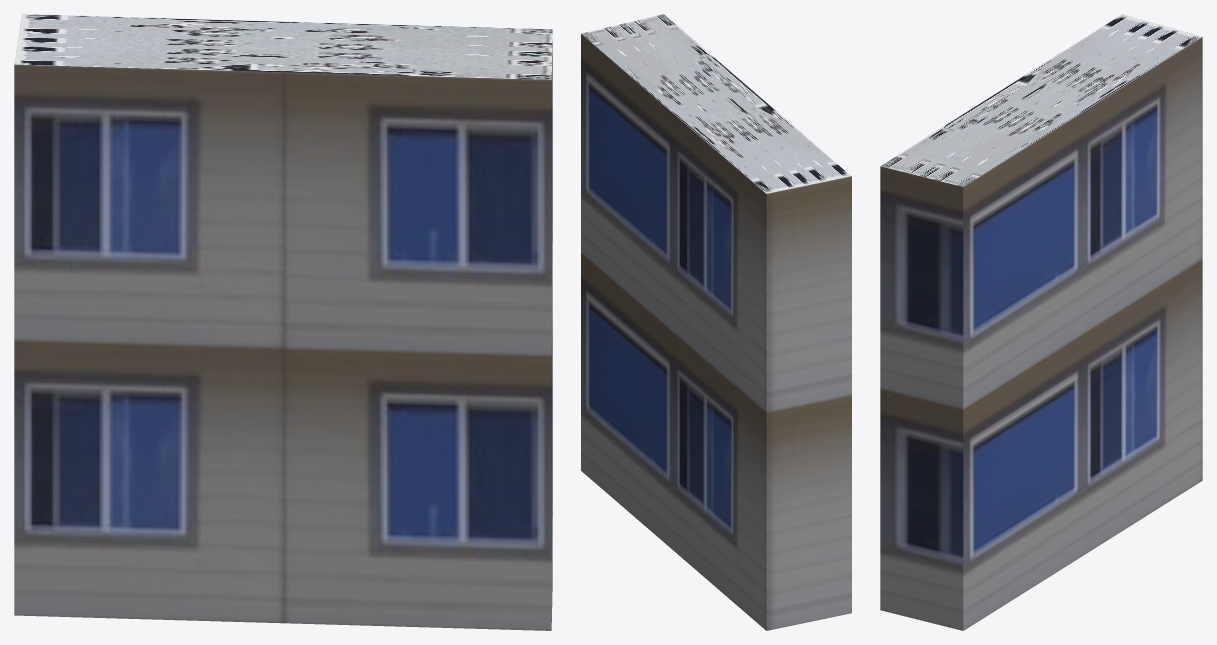
The model's file is ResTex__3735.fbx.
The picture shows the model from 3 angles, left to right: view 1: azimuth 30°, elevation 25°; view 2: azimuth 150°, elevation 25°; view 3: azimuth 270°, elevation 25°; orthographic projection. The views are drawn at different scales.
Visible parts, largest first — view 1: CityEngineMaterial_23_m, CityEngineMaterial_4_m; view 2: CityEngineMaterial_23_m, CityEngineMaterial_4_m; view 3: CityEngineMaterial_23_m, CityEngineMaterial_4_m.
Part boxes in pixels (x1,y1,x2,y2): CityEngineMaterial_23_m: [14, 41, 552, 630]; CityEngineMaterial_4_m: [14, 14, 552, 79]; CityEngineMaterial_23_m: [581, 34, 851, 630]; CityEngineMaterial_4_m: [581, 14, 851, 193]; CityEngineMaterial_23_m: [880, 37, 1202, 630]; CityEngineMaterial_4_m: [880, 14, 1201, 186].
Bounding box in the file's own units: 5.01 × 6 × 3.95.
2 materials, 2 textured.
